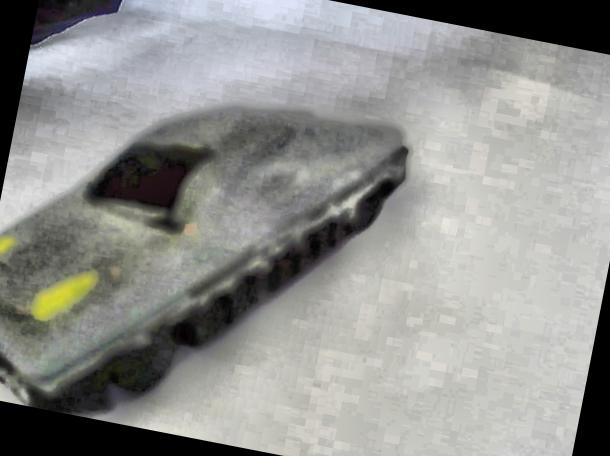normal_car: (0, 107, 408, 415)
